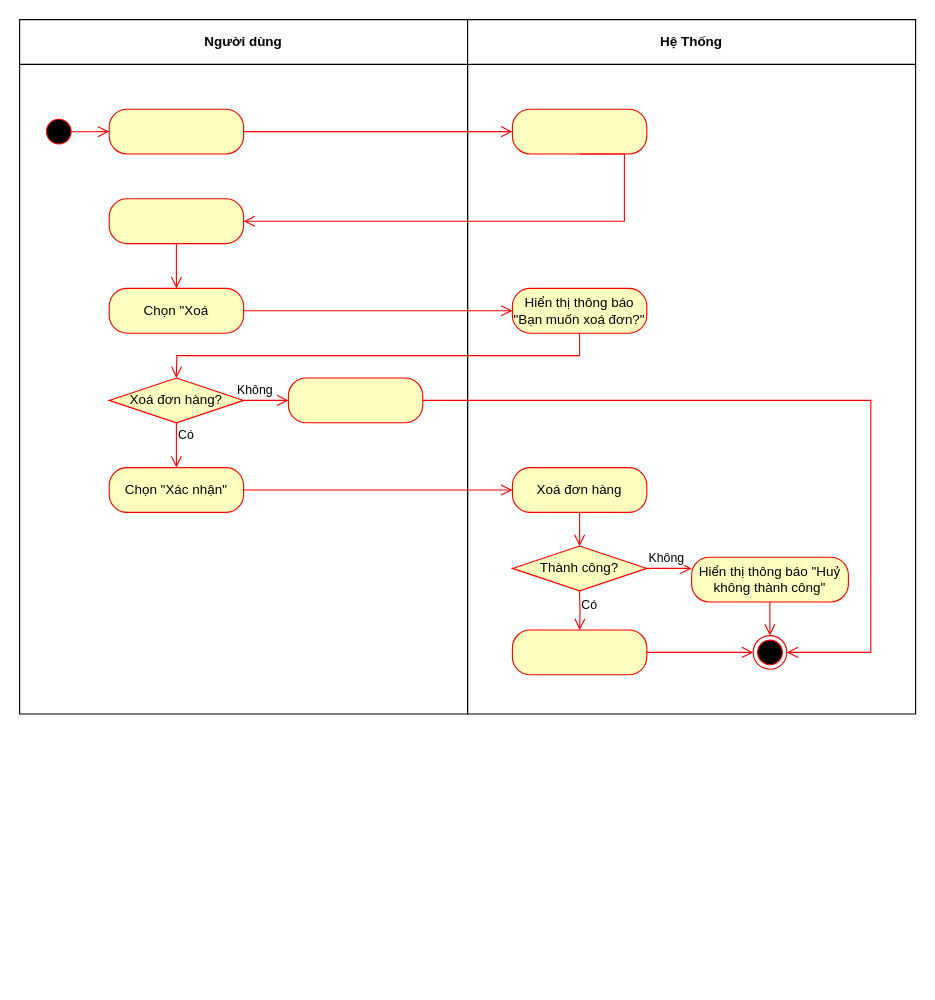
Some shapes in this 935 by 1000 pixel diagram are drawn without their labels. The centre of each missing label's shape, as x and y in pixels:
Chọn "Không. Quay lại": point (355, 400)
Chọn ô "Đơn hàng": point (176, 131)
Hiển thị các đơn hàng đã tạo: point (579, 131)
Hiển thị thông báo “Đơn hàng đã được xoá.”: point (579, 652)
Vuốt đơn hàng cần xoá sang phải: point (176, 221)
